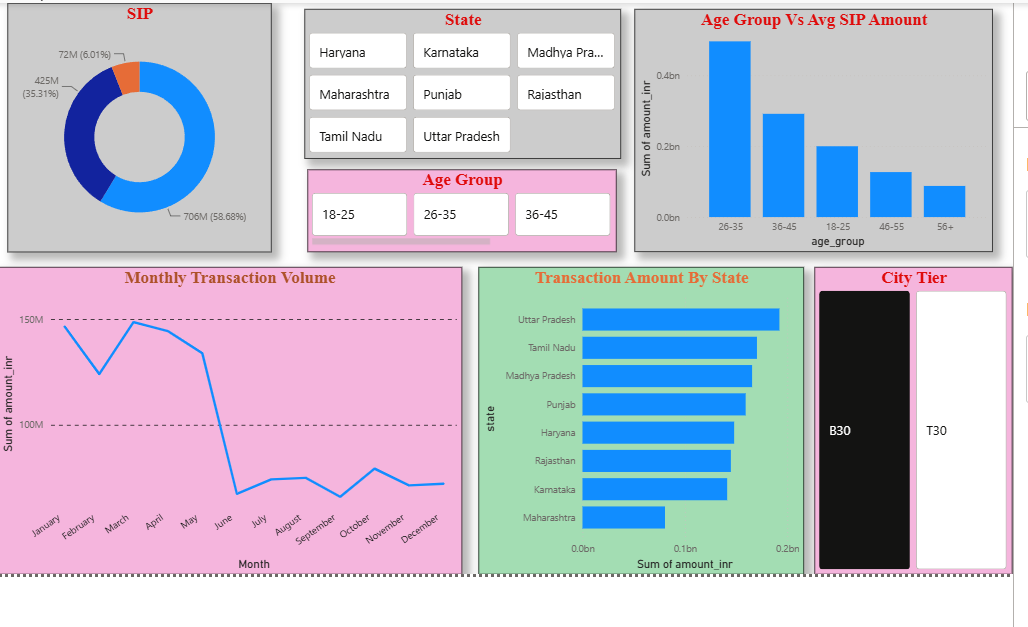

Layout of this report page (visuals, bound fields, positions):
{"tool":"powerbi","page":{"name":"Investor Analysis","canvas":[1280,720],"ordinal":2},"visuals":[{"type":"clusteredBarChart","title":"Transaction Amount By State","fields":{"Category":["clean_transactions.state"],"Y":["Sum(clean_transactions.amount_inr)"]},"box":[606.6,332.6,410.1,387.4],"z":0},{"type":"donutChart","title":"SIP","fields":{"Category":["clean_transactions.transaction_type"],"Y":["Sum(clean_transactions.amount_inr)"]},"box":[13.2,0,332.6,313.7],"z":1000},{"type":"clusteredColumnChart","title":"Age Group Vs Avg SIP Amount","fields":{"Category":["clean_transactions.age_group"],"Y":["Sum(clean_transactions.amount_inr)"]},"box":[803.2,7.6,451.7,306.1],"z":2000},{"type":"lineChart","title":"Monthly Transaction Volume","fields":{"Category":["clean_transactions.transaction_date.Variation.Date Hierarchy.Month"],"Y":["Sum(clean_transactions.amount_inr)"]},"box":[0,332.6,585.8,387.4],"z":3000},{"type":"advancedSlicerVisual","title":"State","fields":{"Values":["clean_transactions.state"]},"box":[387.4,7.6,398.7,189],"z":4000},{"type":"advancedSlicerVisual","title":"Age Group","fields":{"Values":["clean_transactions.age_group"]},"box":[391.2,209.8,389.3,103.9],"z":5000},{"type":"advancedSlicerVisual","title":"City Tier","fields":{"Values":["clean_transactions.city_tier"]},"box":[1029.9,332.6,249.5,387.4],"z":6000}]}

Visuals, with their boxes in screenshot pixels (x1, y1, x2, y2):
"Transaction Amount By State" clusteredBarChart: locate(478, 263, 803, 570)
"SIP" donutChart: locate(8, 0, 271, 248)
"Age Group Vs Avg SIP Amount" clusteredColumnChart: locate(633, 6, 991, 248)
"Monthly Transaction Volume" lineChart: locate(0, 263, 461, 570)
"State" advancedSlicerVisual: locate(304, 6, 620, 156)
"Age Group" advancedSlicerVisual: locate(307, 166, 615, 248)
"City Tier" advancedSlicerVisual: locate(813, 263, 1011, 570)
